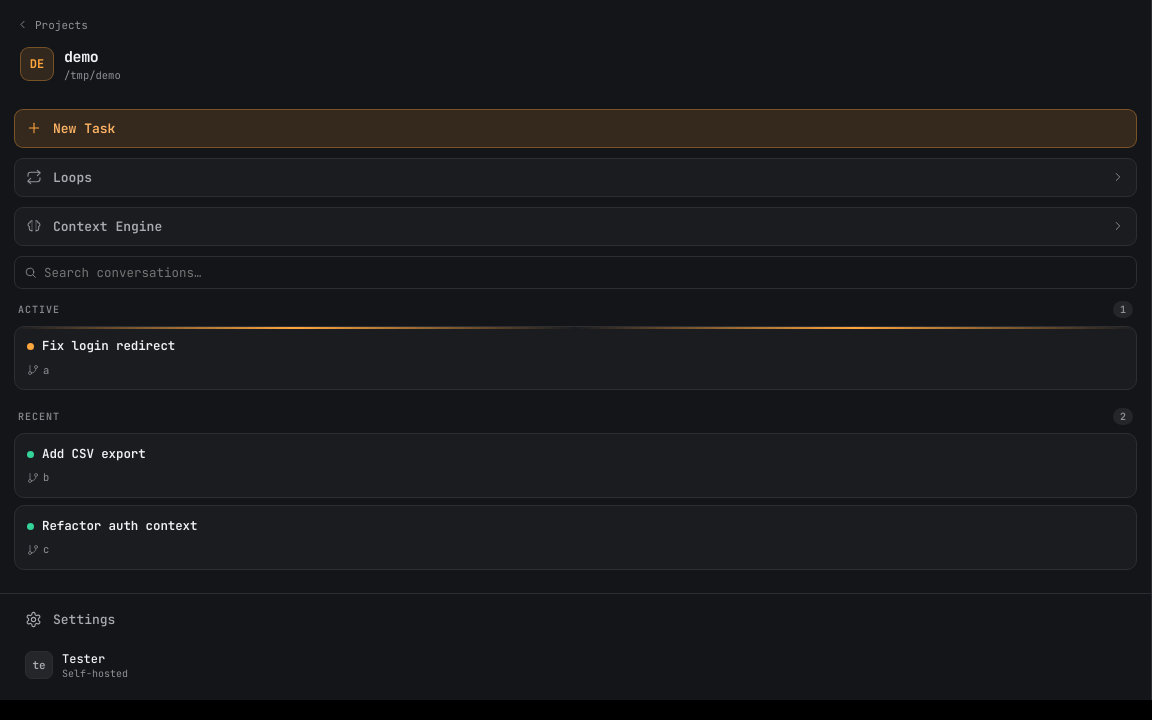
Scenario: AgentsSidebar — conversation search (#116) › shows an empty state when nothing matches
This screenshot has width=1152, height=720.
Type "deploy-xyz" into the field labelled "Search conversations" at (586, 272), box [44,264,1127,280]
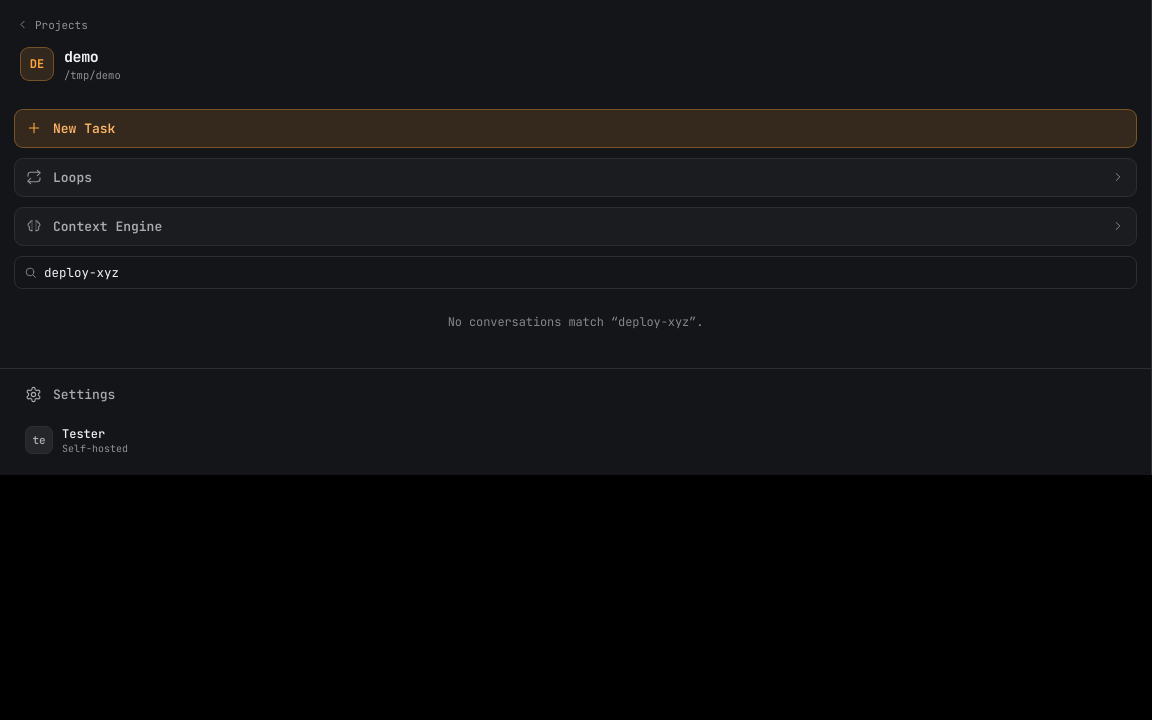
Now the text "No conversations match “deploy-xyz”." is shown, box [448,314,703,330]
Now the button "Fix login redirect" is gone
